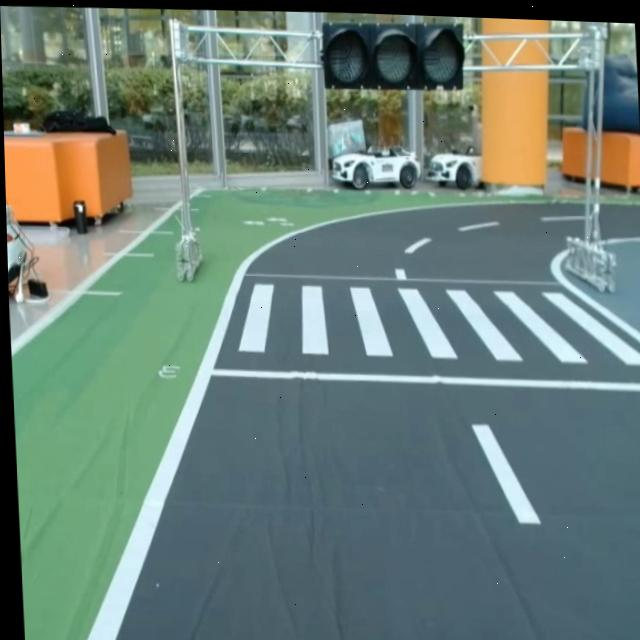traffic-light: (314, 18, 470, 97)
